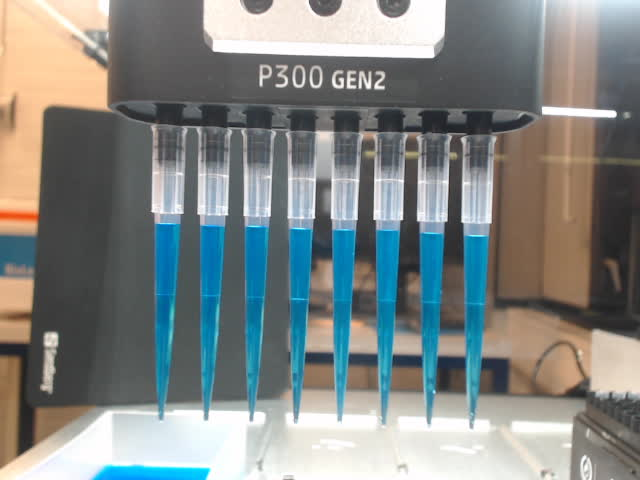Liquid: (147, 220, 183, 422), (240, 222, 273, 424), (284, 225, 317, 426), (372, 226, 404, 430), (461, 231, 493, 433), (196, 221, 228, 422), (416, 230, 448, 430), (330, 226, 358, 427)
Tip: (145, 120, 190, 421), (458, 132, 500, 433), (193, 123, 234, 424), (238, 126, 279, 424), (370, 131, 410, 431), (414, 132, 454, 431), (282, 128, 321, 426), (328, 129, 366, 426)
